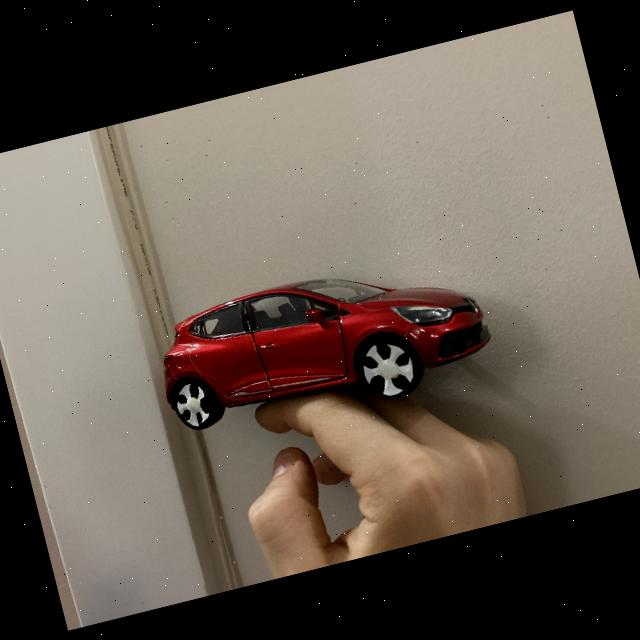Yanlis_Jant: (358, 336, 420, 400), (171, 379, 215, 432)
